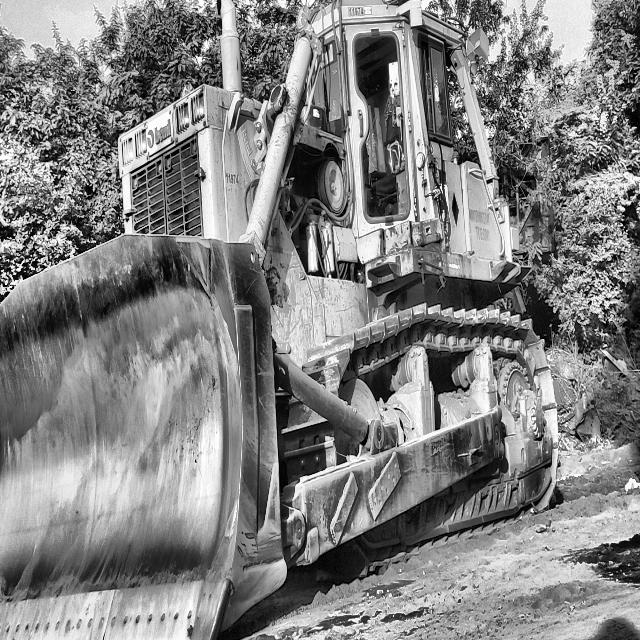buldozerpayloadergrader: (0, 0, 558, 640)
